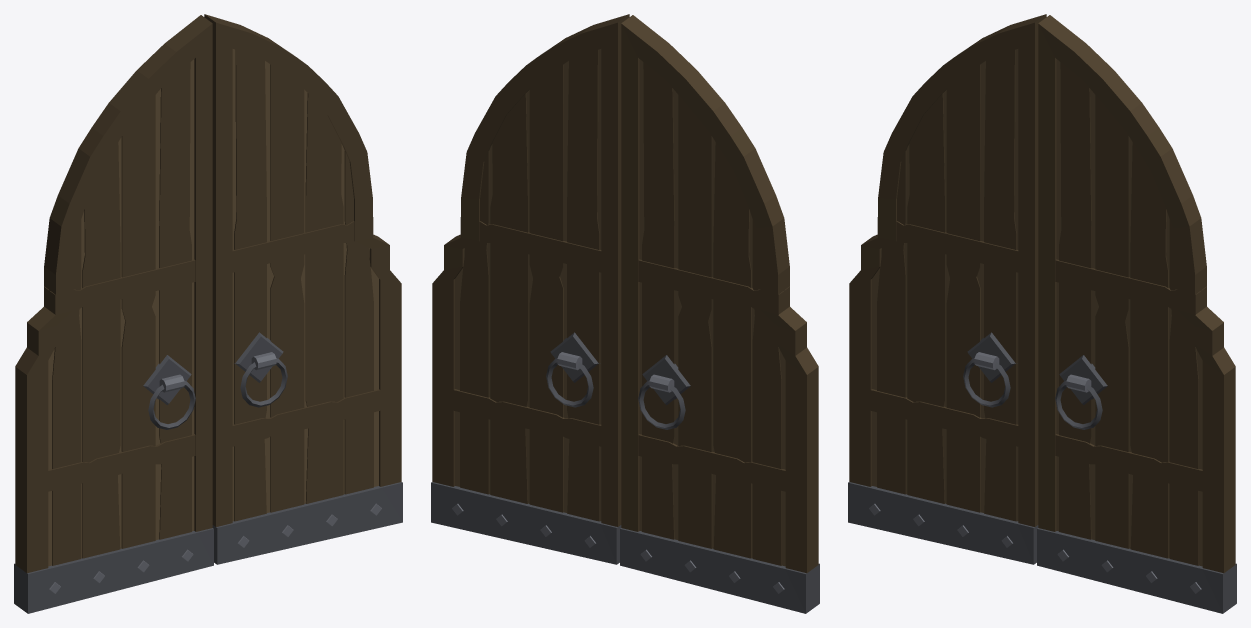
The model's file is Doors_GothicArch.glb.
3 views of the same model, side by side, from view 1: azimuth 30°, elevation 25°; view 2: azimuth 150°, elevation 25°; view 3: azimuth 330°, elevation 25° (orthographic).
Parts seen in each view (by area): view 1: Doors_GothicArch_L, Doors_GothicArch_R; view 2: Doors_GothicArch_L, Doors_GothicArch_R; view 3: Doors_GothicArch_R, Doors_GothicArch_L.
Boxes of the visible parts, x1,y1,x2,y2 form: Doors_GothicArch_L: (14, 15, 213, 613); Doors_GothicArch_R: (204, 14, 402, 564); Doors_GothicArch_L: (620, 15, 819, 613); Doors_GothicArch_R: (431, 14, 629, 564); Doors_GothicArch_R: (1037, 15, 1236, 613); Doors_GothicArch_L: (848, 14, 1046, 564).
Size of the model in its own units: 231 by 321 by 27.43.
